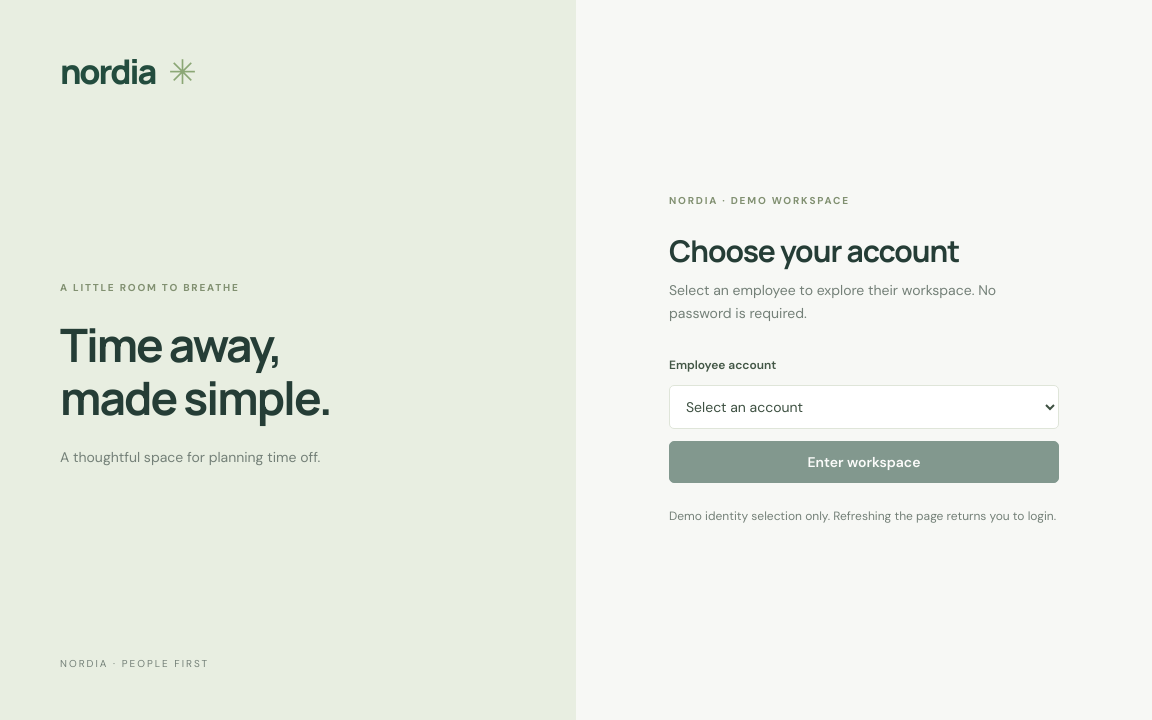
submits a request and displays it as pending in history
The width and height of the screenshot is (1152, 720).
Select "Bilel Khemiri · Platform · employee" in the dropdown labelled "Employee account" at (864, 407), box x1=669 y1=385 x2=1059 y2=429
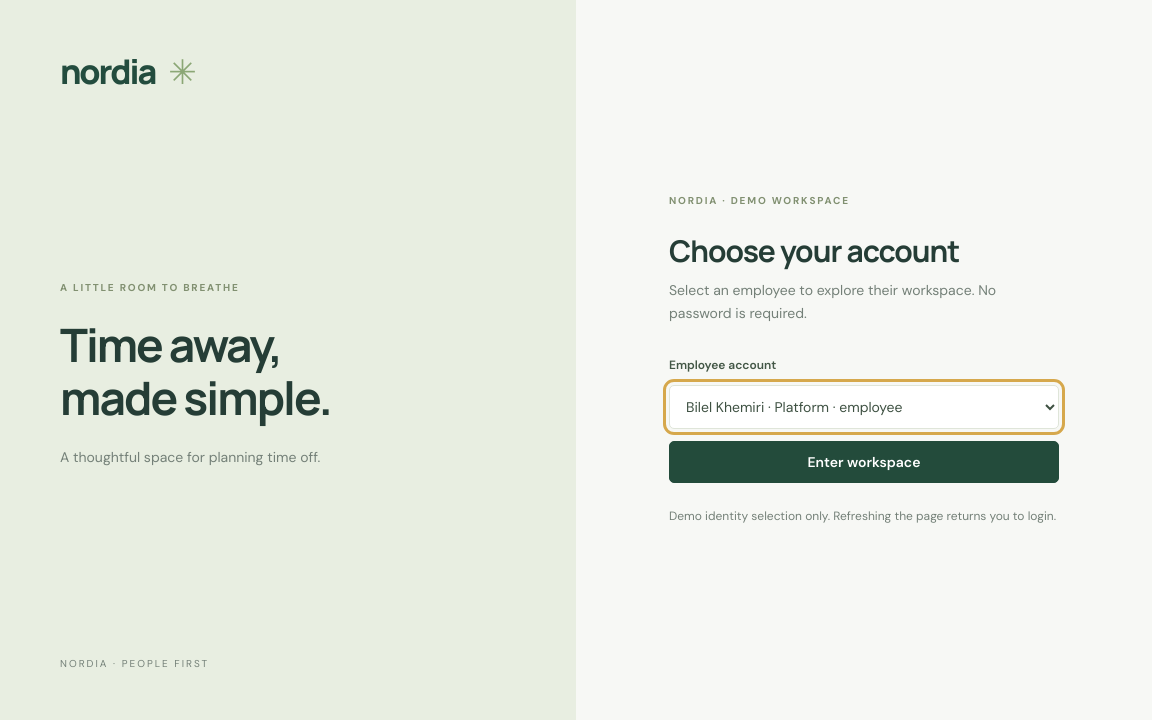
Click the button "Enter workspace" at (864, 462), box x1=669 y1=441 x2=1059 y2=483
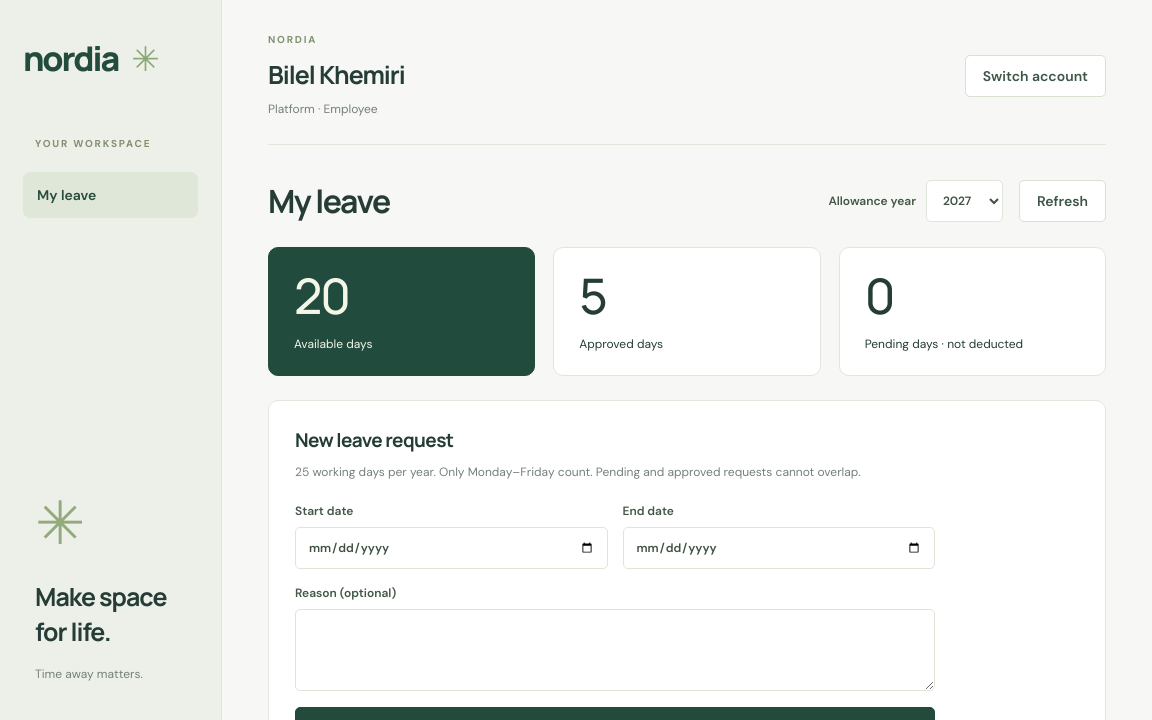
Check: the text "Available days" is shown, box x1=294 y1=336 x2=372 y2=352
Type "2027-06-01" into the date field labelled "Start date" at (451, 548), box x1=295 y1=527 x2=608 y2=569
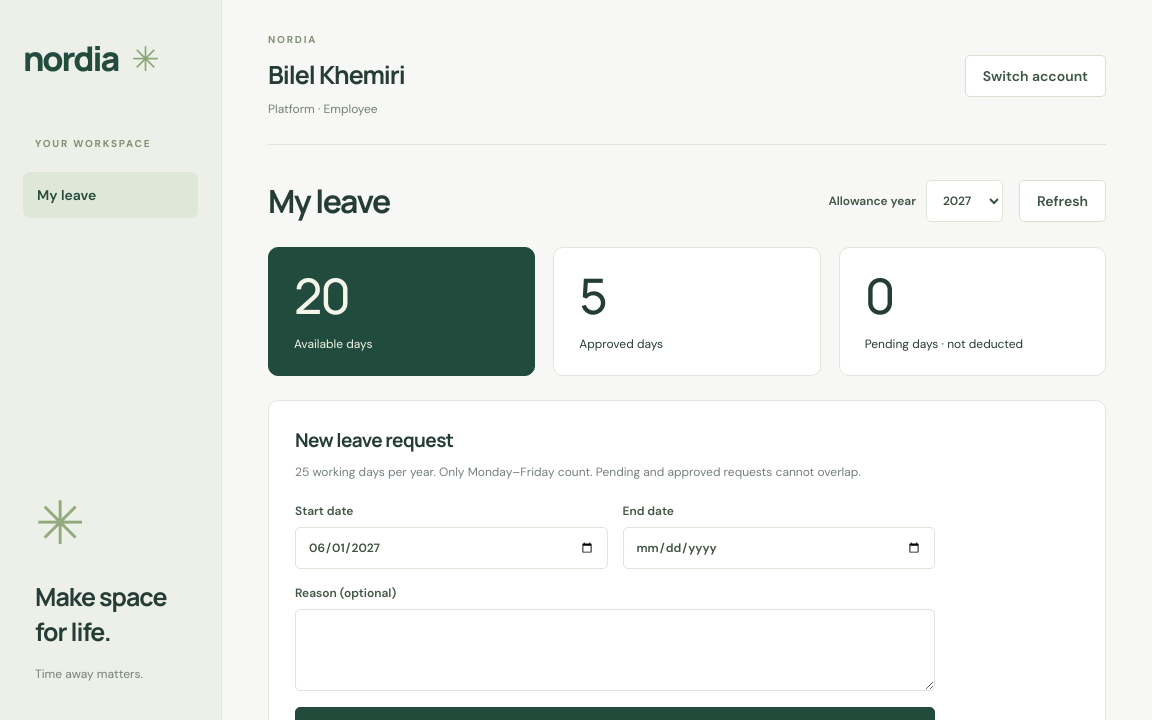
Type "2027-06-03" into the date field labelled "End date" at (779, 548), box x1=622 y1=527 x2=935 y2=569
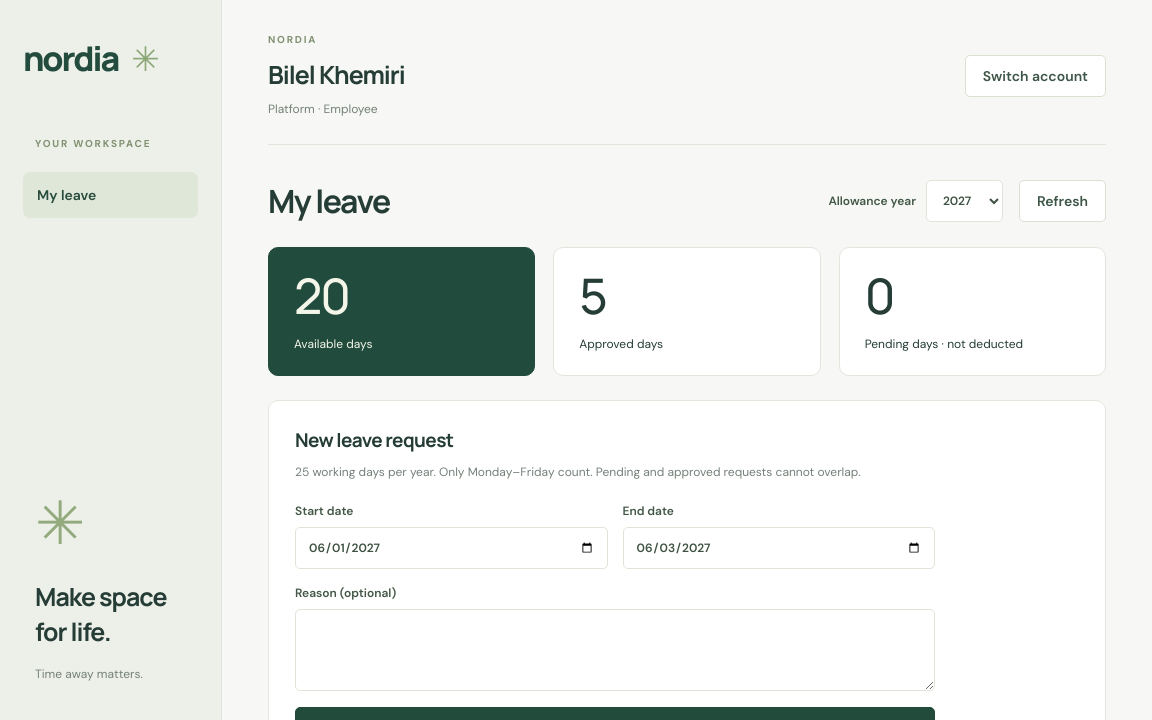
Type "Family trip" into the text box labelled "Reason (optional)" at (615, 650), box x1=295 y1=609 x2=935 y2=691
(page scrolled)
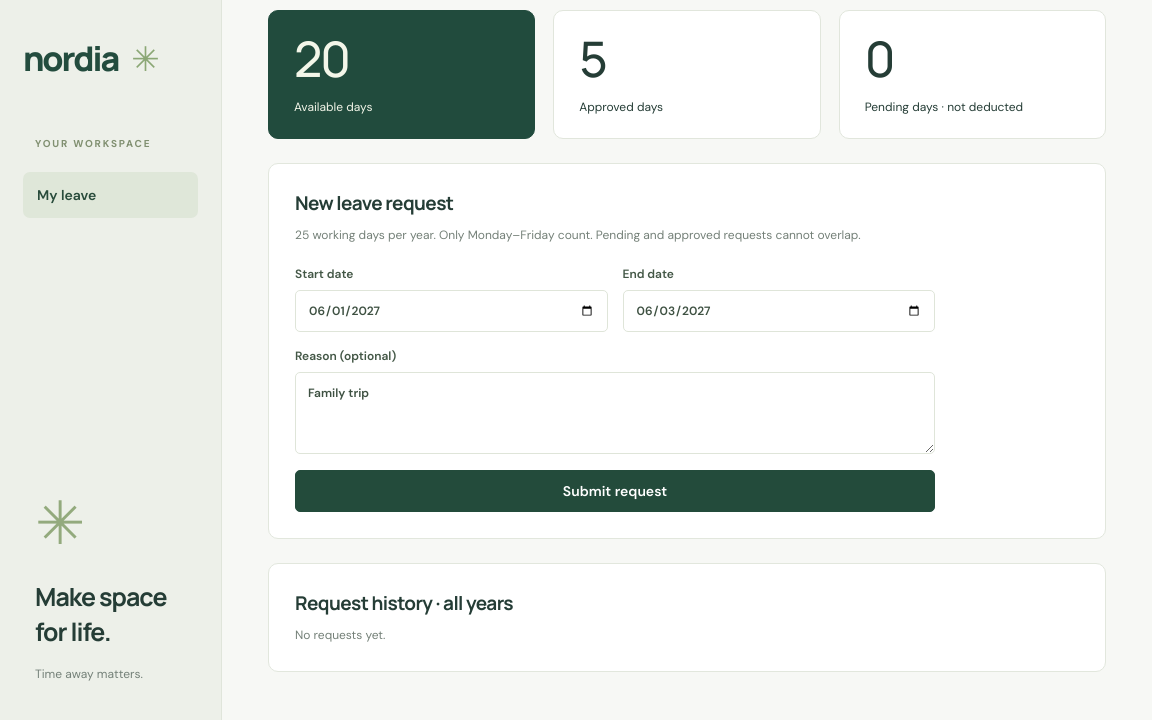
Click the button "Submit request" at (615, 491), box x1=295 y1=470 x2=935 y2=512
(page scrolled)
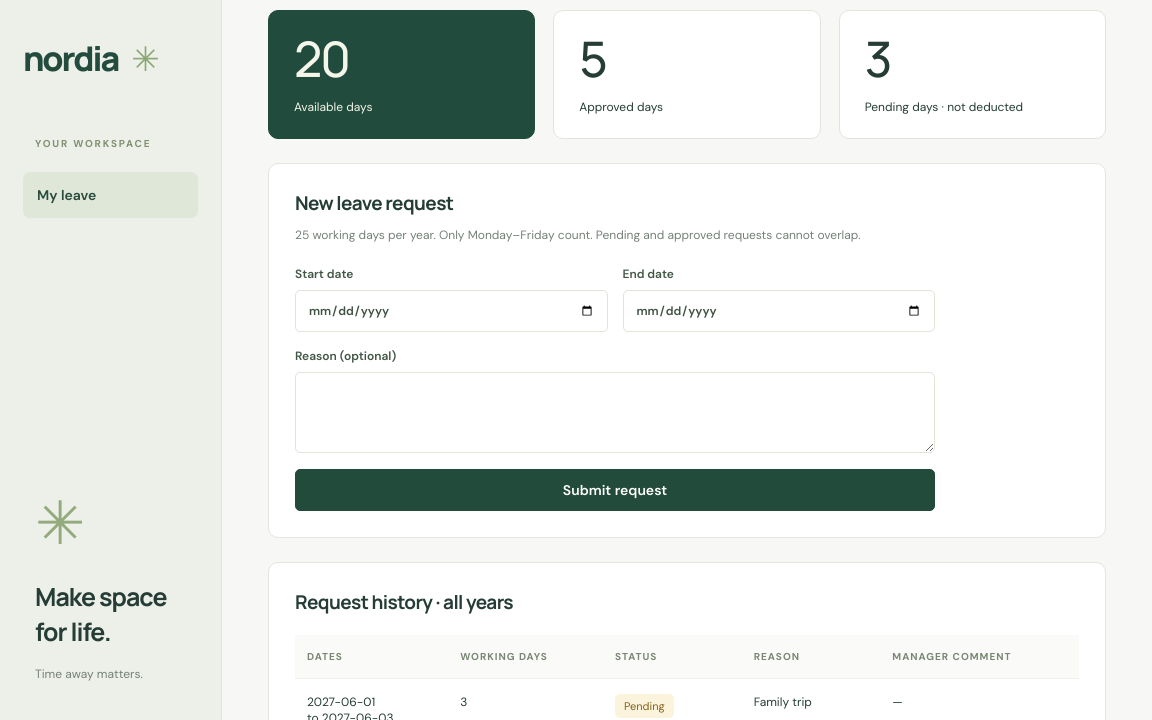
Check: the text "pending" is shown, box x1=615 y1=694 x2=674 y2=718
Check: the date field labelled "Start date" is empty, box x1=295 y1=290 x2=608 y2=332
